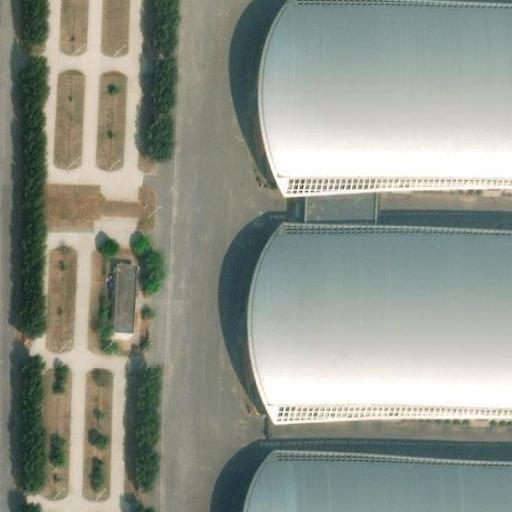building: (231, 7, 512, 426), (113, 255, 136, 323)
